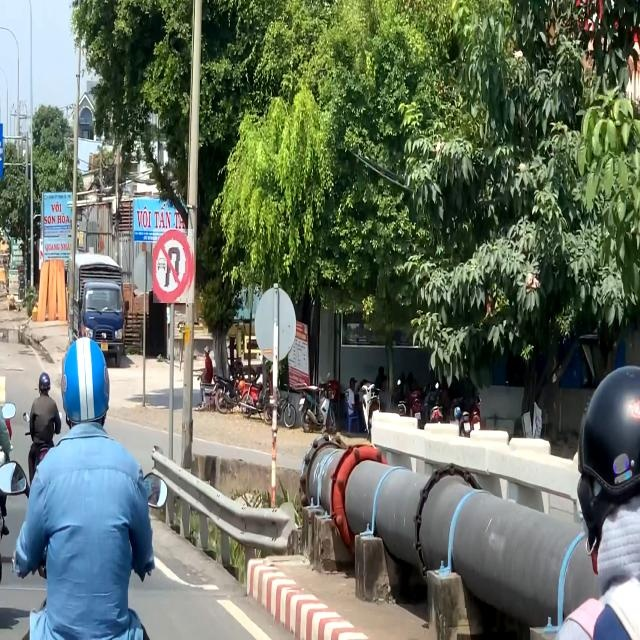bien_cam: (153, 229, 194, 303)
